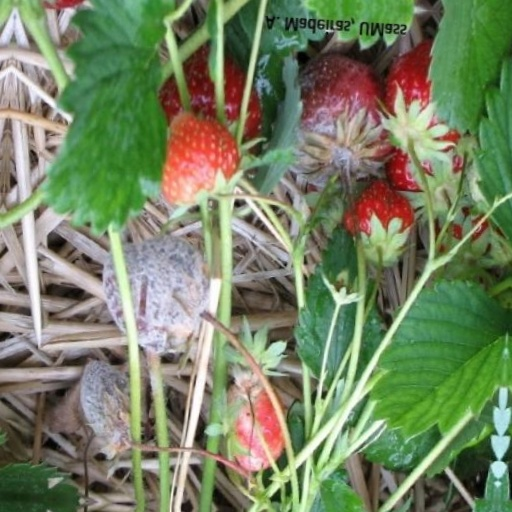Gray Mold: (267, 329, 389, 465), (103, 153, 216, 272), (88, 48, 153, 142)
